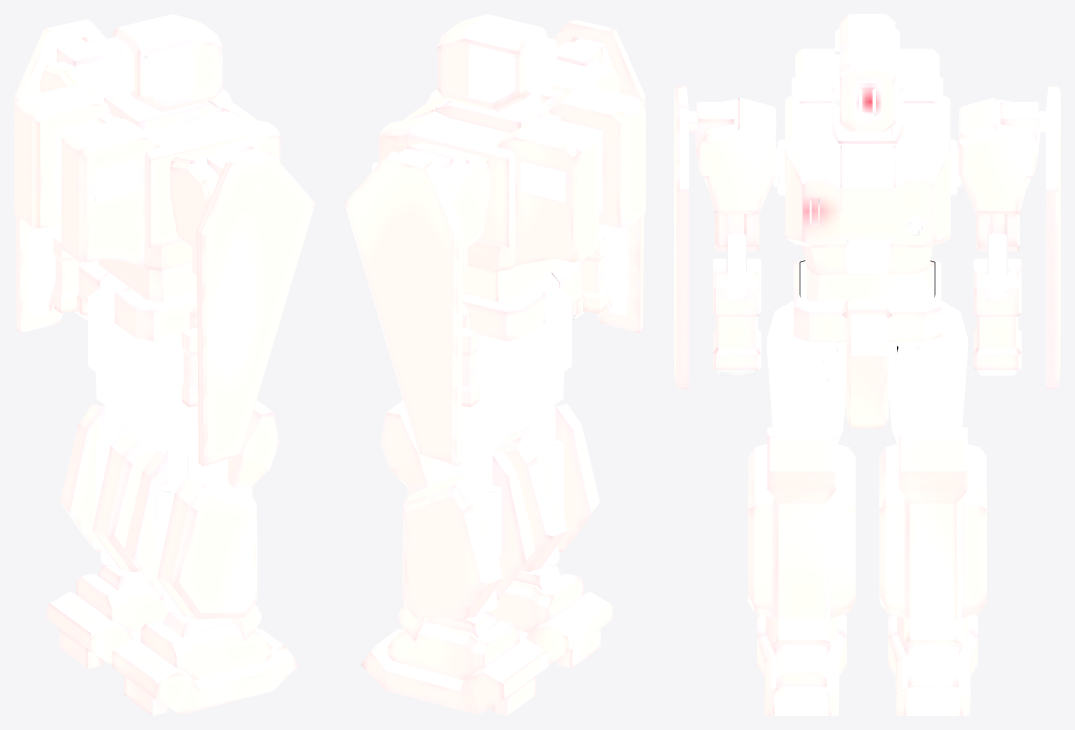
Rendered from Enemy test.fbx.
3 views of the same model, side by side, from view 1: azimuth 30°, elevation 25°; view 2: azimuth 150°, elevation 25°; view 3: azimuth 270°, elevation 25° (orthographic).
Visible parts, largest first — view 1: body.005; view 2: body.005; view 3: body.005.
Boxes of the visible parts, x1,y1,x2,y2 form: body.005: [14, 14, 315, 715]; body.005: [344, 14, 645, 715]; body.005: [674, 14, 1060, 715].
Bounding box in the file's own units: 349 × 995 × 532.
Materials: 1 (1 with a texture image).
